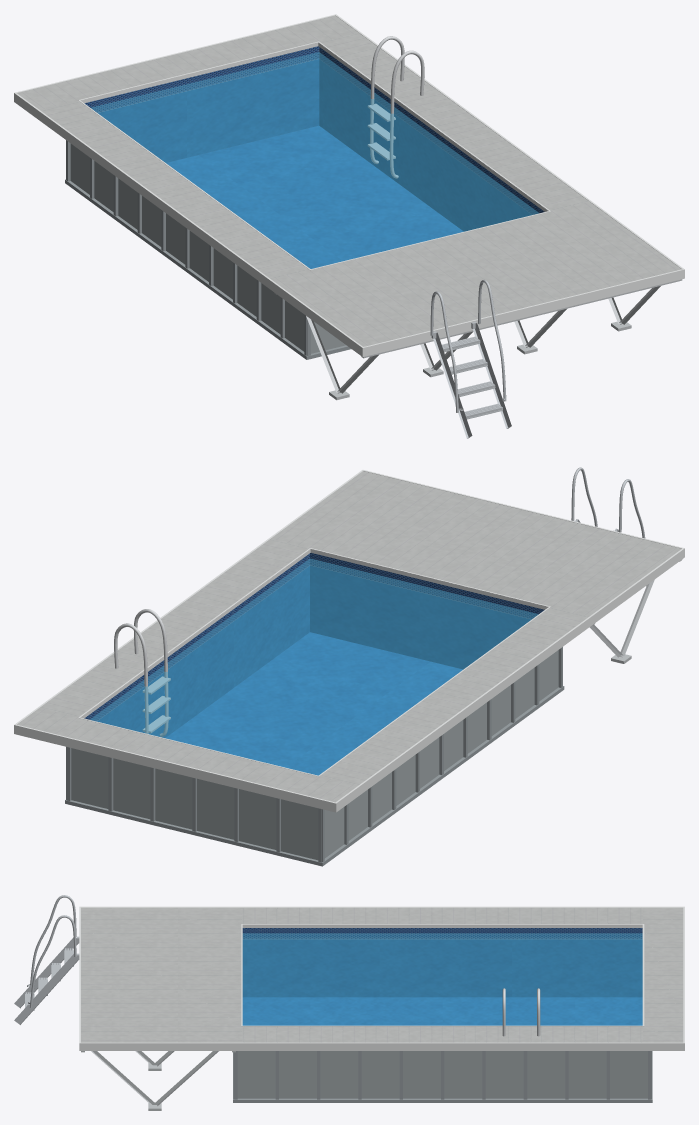
Rendered from kayak-pool-12x20-gray-end-ag-nofence.31b0edb9d9.glb.
3 views of the same model, one above another, from view 1: azimuth 30°, elevation 25°; view 2: azimuth 150°, elevation 25°; view 3: azimuth 270°, elevation 25° (orthographic). The views are drawn at different scales.
Visible parts, largest first — view 1: deck, water, liner_wall, liner_floor, fascia, wall, upright, ladder, stud, steel; view 2: deck, water, liner_wall, liner_floor, wall, fascia, upright, steel, stud, ladder; view 3: deck, water, liner_wall, wall, liner_floor, fascia, upright, ladder, stud, steel.
Boxes of the visible parts, left/top/right/bottom form: deck: left=17, top=15, right=681, bottom=346; water: left=91, top=52, right=538, bottom=268; liner_wall: left=84, top=46, right=544, bottom=231; liner_floor: left=166, top=126, right=463, bottom=268; fascia: left=14, top=14, right=684, bottom=356; wall: left=70, top=144, right=345, bottom=353; upright: left=65, top=140, right=351, bottom=359; ladder: left=430, top=279, right=511, bottom=438; stud: left=274, top=279, right=682, bottom=400; steel: left=367, top=36, right=424, bottom=178; deck: left=17, top=471, right=681, bottom=802; water: left=90, top=558, right=538, bottom=775; liner_wall: left=84, top=553, right=544, bottom=737; liner_floor: left=166, top=632, right=462, bottom=775; wall: left=71, top=650, right=558, bottom=860; fascia: left=14, top=470, right=684, bottom=812; upright: left=65, top=647, right=564, bottom=866; steel: left=114, top=609, right=170, bottom=736; stud: left=589, top=559, right=682, bottom=663; ladder: left=571, top=467, right=646, bottom=586; deck: left=81, top=907, right=683, bottom=1042; water: left=242, top=933, right=642, bottom=1025; liner_wall: left=242, top=928, right=642, bottom=997; wall: left=237, top=1051, right=647, bottom=1098; liner_floor: left=242, top=997, right=642, bottom=1025; fascia: left=79, top=906, right=684, bottom=1050; upright: left=233, top=1051, right=652, bottom=1102; ladder: left=14, top=895, right=79, bottom=1024; stud: left=81, top=1051, right=235, bottom=1110; steel: left=502, top=988, right=540, bottom=1036.
Bounding box in the file's own units: 4.88 × 1.9 × 10.13.
Materials: 10 (3 with a texture image).
